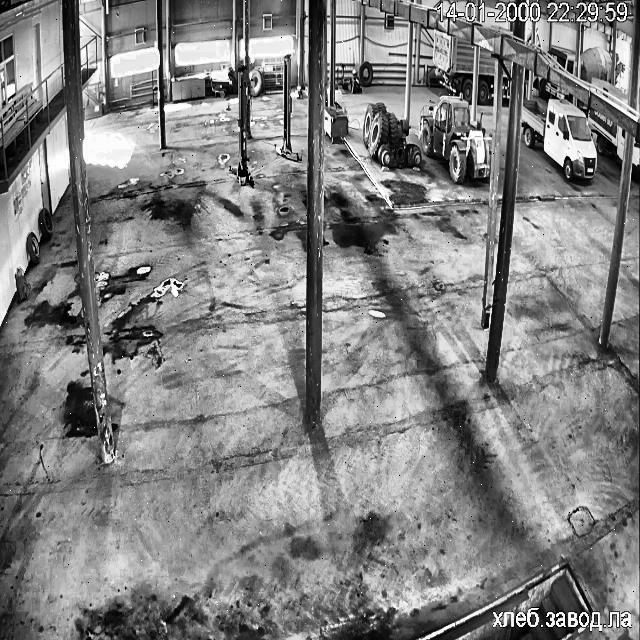class6: (420, 96, 489, 182), (362, 102, 420, 166)
class7: (521, 99, 596, 180), (432, 28, 473, 100), (588, 108, 624, 160), (580, 46, 611, 82), (477, 46, 495, 102), (592, 80, 626, 102), (548, 45, 574, 73), (537, 77, 570, 99), (498, 60, 511, 98), (632, 140, 640, 179), (616, 58, 624, 76)
tractor: (16, 268, 25, 300)
truck: (230, 66, 253, 186), (275, 53, 300, 161)
